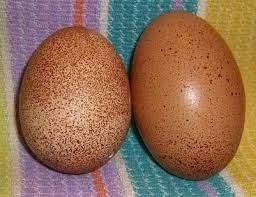egg: (134, 10, 250, 183), (16, 20, 132, 174)
